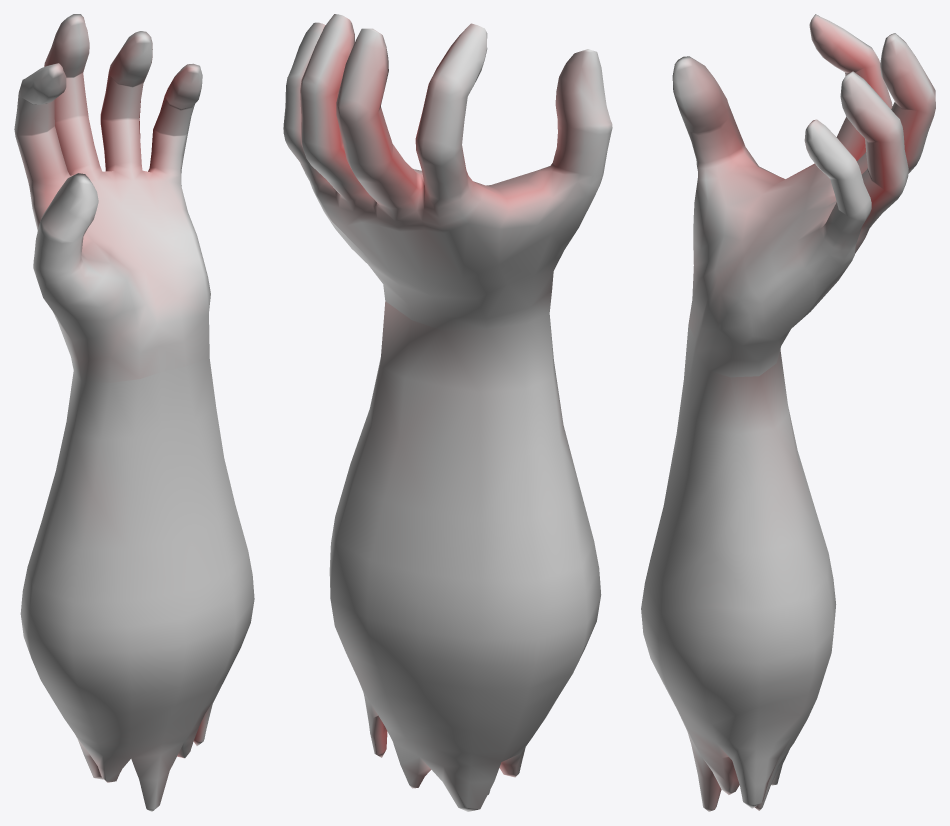
The model's file is SM_WEP_D72NJ2_HND02_L.glb.
3 renders of one model, left to right at view 1: azimuth 30°, elevation 25°; view 2: azimuth 150°, elevation 25°; view 3: azimuth 270°, elevation 25°, orthographic. The views are drawn at different scales.
Parts seen in each view (by area): view 1: SM_WEP_D72NJ2_HND02_L; view 2: SM_WEP_D72NJ2_HND02_L; view 3: SM_WEP_D72NJ2_HND02_L.
Part boxes in pixels (x1,y1,x2,y2): SM_WEP_D72NJ2_HND02_L: [14, 14, 254, 811]; SM_WEP_D72NJ2_HND02_L: [283, 14, 612, 811]; SM_WEP_D72NJ2_HND02_L: [641, 14, 935, 811].
Size of the model in its own units: 0.3034 by 0.978 by 0.3343.
